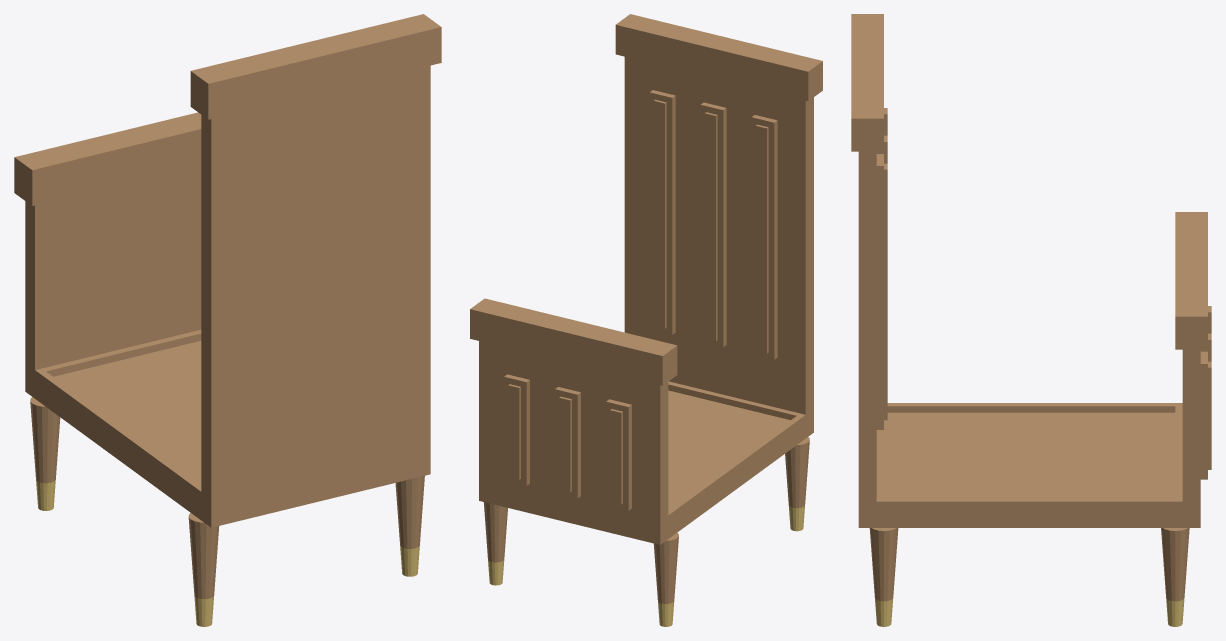
3 renders of one model, left to right at view 1: azimuth 30°, elevation 25°; view 2: azimuth 150°, elevation 25°; view 3: azimuth 270°, elevation 25°, orthographic. The views are drawn at different scales.
Parts seen in each view (by area): view 1: headboard, footboard, bed_frame_base, leg, leg.002, leg.001, slat.013, slat.011, slat.012, slat.008, slat.009, slat.010 (+3 smaller); view 2: headboard, footboard, bed_frame_base, leg.002, leg, leg.003, slat, slat.003, slat.002, slat.001, slat.005, slat.004 (+2 smaller); view 3: headboard, bed_frame_base, footboard, slat.009, slat.003, slat.002, slat.007, slat.011, slat.008, slat.004, slat.012, slat.005 (+7 smaller).
Boxes of the visible parts, bbox=[...] form: headboard: bbox=[190, 14, 441, 527]; footboard: bbox=[14, 112, 201, 398]; bed_frame_base: bbox=[35, 330, 201, 519]; leg: bbox=[188, 513, 219, 626]; leg.002: bbox=[30, 397, 60, 510]; leg.001: bbox=[395, 476, 424, 576]; slat.013: bbox=[53, 341, 201, 386]; slat.011: bbox=[74, 360, 201, 400]; slat.012: bbox=[62, 349, 201, 393]; slat.008: bbox=[108, 394, 201, 425]; slat.009: bbox=[96, 383, 201, 419]; slat.010: bbox=[85, 372, 201, 408]; headboard: bbox=[615, 14, 822, 438]; footboard: bbox=[470, 298, 677, 544]; bed_frame_base: bbox=[668, 381, 805, 538]; leg.002: bbox=[653, 533, 678, 626]; leg: bbox=[785, 437, 809, 531]; leg.003: bbox=[483, 502, 507, 585]; slat: bbox=[668, 390, 790, 428]; slat.003: bbox=[668, 416, 764, 448]; slat.002: bbox=[668, 407, 773, 439]; slat.001: bbox=[668, 397, 779, 432]; slat.005: bbox=[668, 434, 741, 462]; slat.004: bbox=[668, 428, 750, 455]; headboard: bbox=[851, 14, 887, 527]; bed_frame_base: bbox=[876, 403, 1182, 527]; footboard: bbox=[1175, 212, 1211, 527]; slat.009: bbox=[1067, 412, 1096, 498]; slat.003: bbox=[942, 412, 971, 498]; slat.002: bbox=[921, 412, 950, 498]; slat.007: bbox=[1025, 412, 1054, 498]; slat.011: bbox=[1108, 412, 1137, 498]; slat.008: bbox=[1046, 412, 1075, 498]; slat.004: bbox=[963, 412, 992, 498]; slat.012: bbox=[1129, 412, 1158, 498]; slat.005: bbox=[984, 412, 1012, 498].
Bounding box in the file's own units: 0.68 × 1.55 × 0.99.
